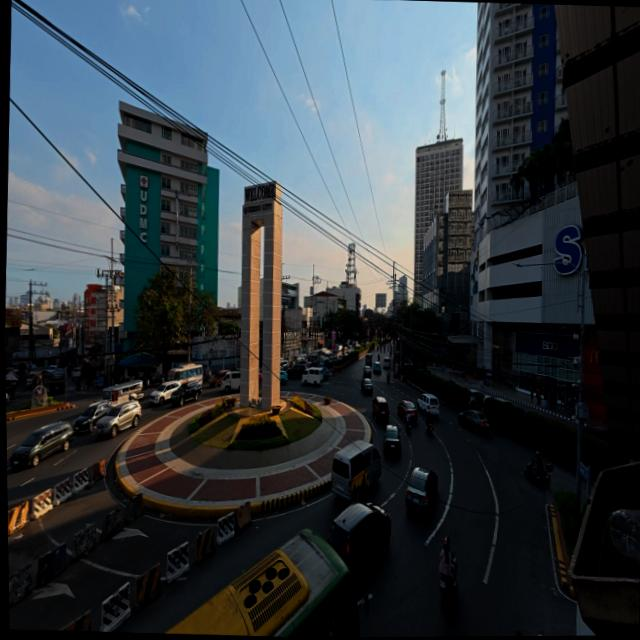Jeepneys: (103, 380, 144, 405)
bus: (168, 530, 359, 637), (168, 365, 204, 385)
car: (328, 502, 391, 582), (10, 423, 73, 468), (95, 401, 141, 437), (405, 468, 437, 515), (73, 401, 111, 431), (171, 381, 202, 406), (458, 411, 491, 434), (150, 381, 181, 405), (384, 425, 401, 455), (397, 399, 418, 422), (372, 396, 389, 420), (49, 369, 66, 393), (207, 369, 228, 388), (583, 426, 609, 440), (469, 390, 490, 405), (287, 363, 306, 378), (27, 371, 42, 389), (494, 396, 515, 406), (361, 378, 373, 395), (70, 365, 82, 381), (44, 364, 58, 375), (320, 365, 330, 379), (322, 357, 333, 368), (362, 365, 371, 378), (372, 361, 381, 374), (280, 369, 288, 383), (295, 356, 305, 364), (280, 360, 288, 369), (6, 392, 10, 404), (337, 352, 343, 360), (259, 372, 263, 382)
motorcycle: (524, 459, 552, 489), (440, 574, 454, 607), (426, 420, 433, 435), (405, 420, 411, 433), (76, 379, 81, 390), (386, 374, 390, 384)
trucks: (309, 350, 320, 366)
vans: (332, 441, 381, 500), (417, 394, 439, 417), (222, 370, 241, 391), (302, 368, 324, 385), (381, 355, 391, 370)
